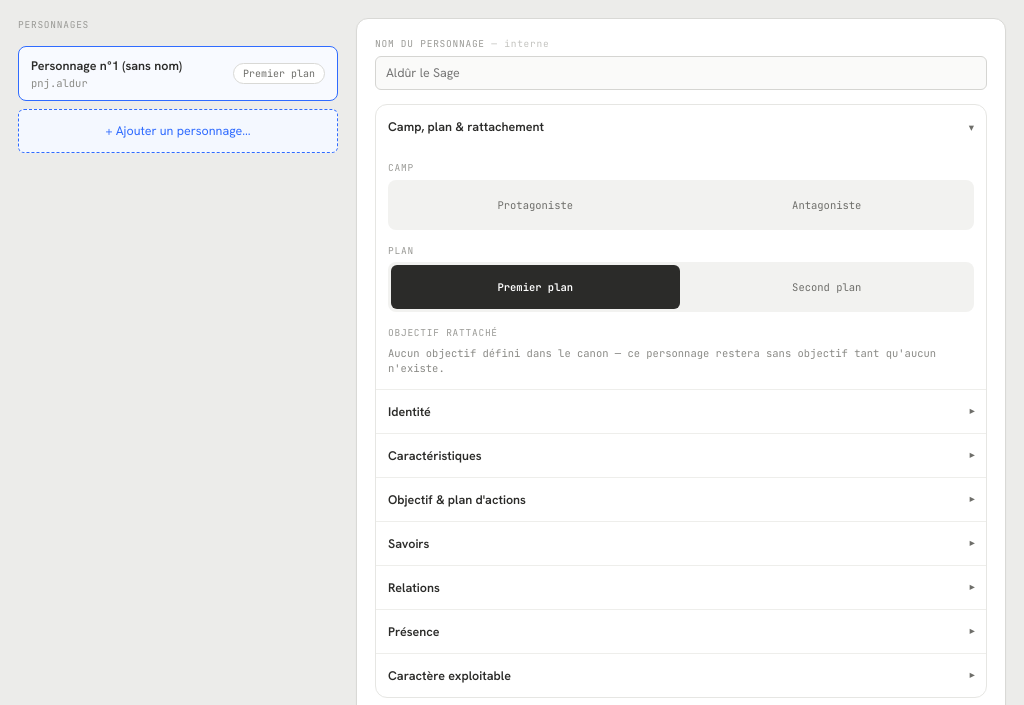
Test: FichePersonnage - bloc Caractere › le clic sur regler le caractere seme les six curseurs, seuls, en un commit
Click the button "Caractère exploitable ▾": coordinates (449, 675) 376,653 -> 986,697
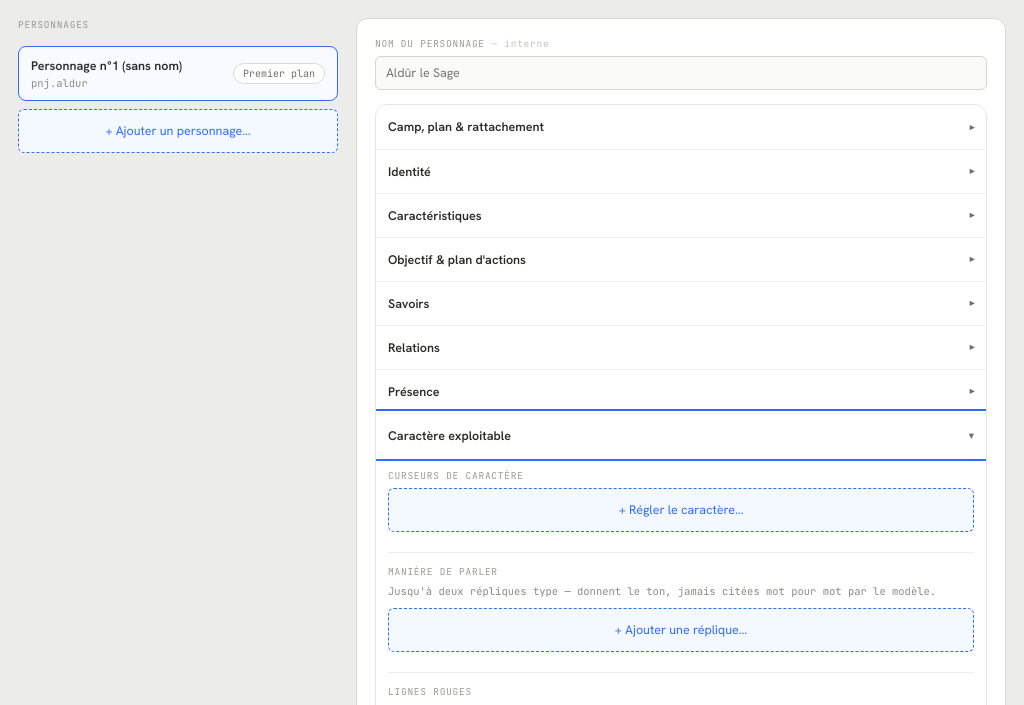
Click the button "+ Régler le caractère…": coordinates (681, 510) 388,488 -> 974,532
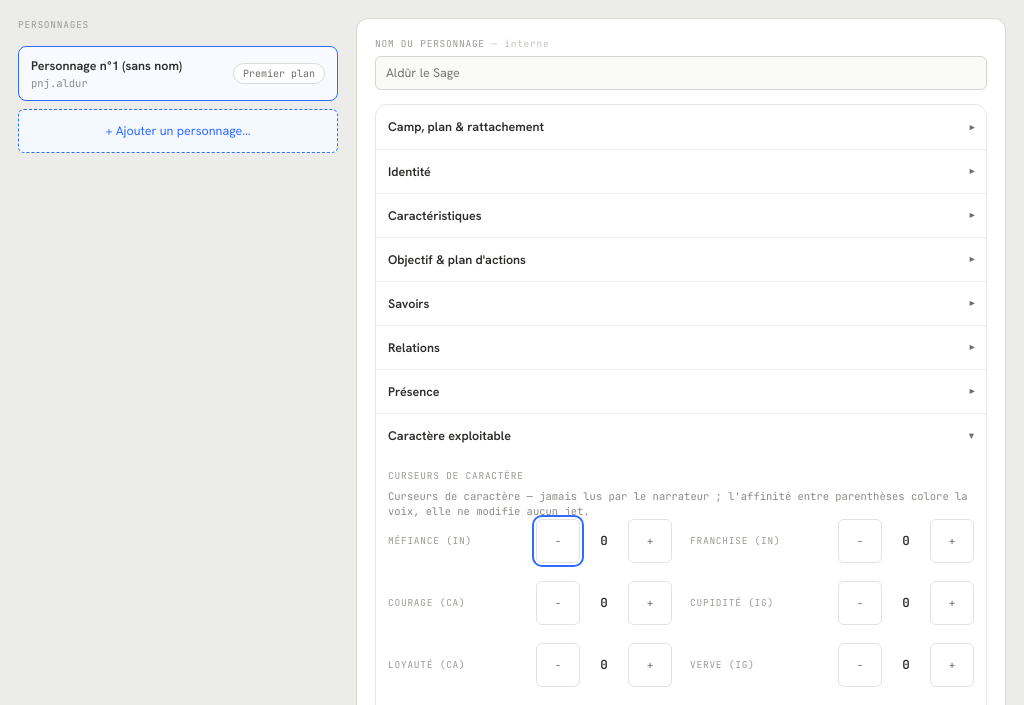
Result: the button "+ Régler le caractère…" is gone
